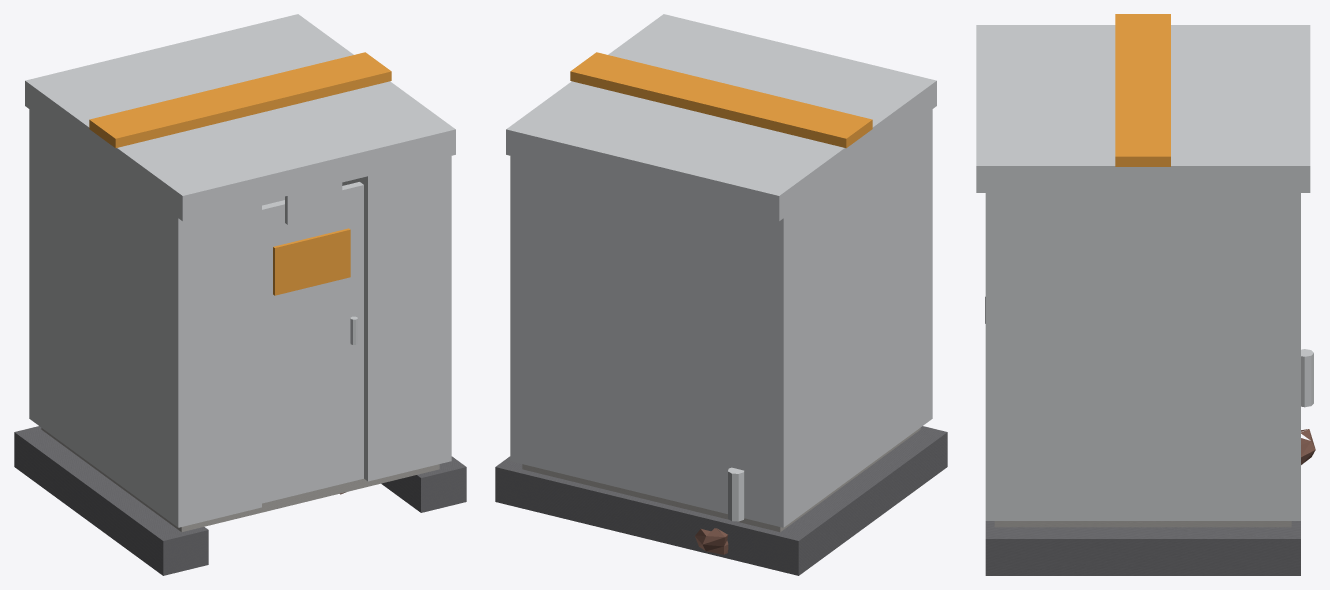
The model's file is volcano-and-lava-fields-volcano-and-lava-fields-seismo-36125fe8__37482.glb.
The picture shows the model from 3 angles, left to right: view 1: azimuth 30°, elevation 25°; view 2: azimuth 150°, elevation 25°; view 3: azimuth 270°, elevation 25°; orthographic projection. The views are drawn at different scales.
Parts seen in each view (by area): view 1: volcano-and-lava-fields-seismometer-hut, hut-door/steel, hut-door/hiVis; view 2: volcano-and-lava-fields-seismometer-hut; view 3: volcano-and-lava-fields-seismometer-hut.
Boxes of the visible parts, x1=… form: volcano-and-lava-fields-seismometer-hut: x1=14, y1=14, x2=466, y2=575; hut-door/steel: x1=262, y1=182, x2=363, y2=503; hut-door/hiVis: x1=273, y1=228, x2=350, y2=295; volcano-and-lava-fields-seismometer-hut: x1=495, y1=14, x2=947, y2=575; volcano-and-lava-fields-seismometer-hut: x1=976, y1=14, x2=1315, y2=575.
Bounding box in the file's own units: 2 × 2.45 × 1.83.
Materials: 5 (3 with a texture image).
